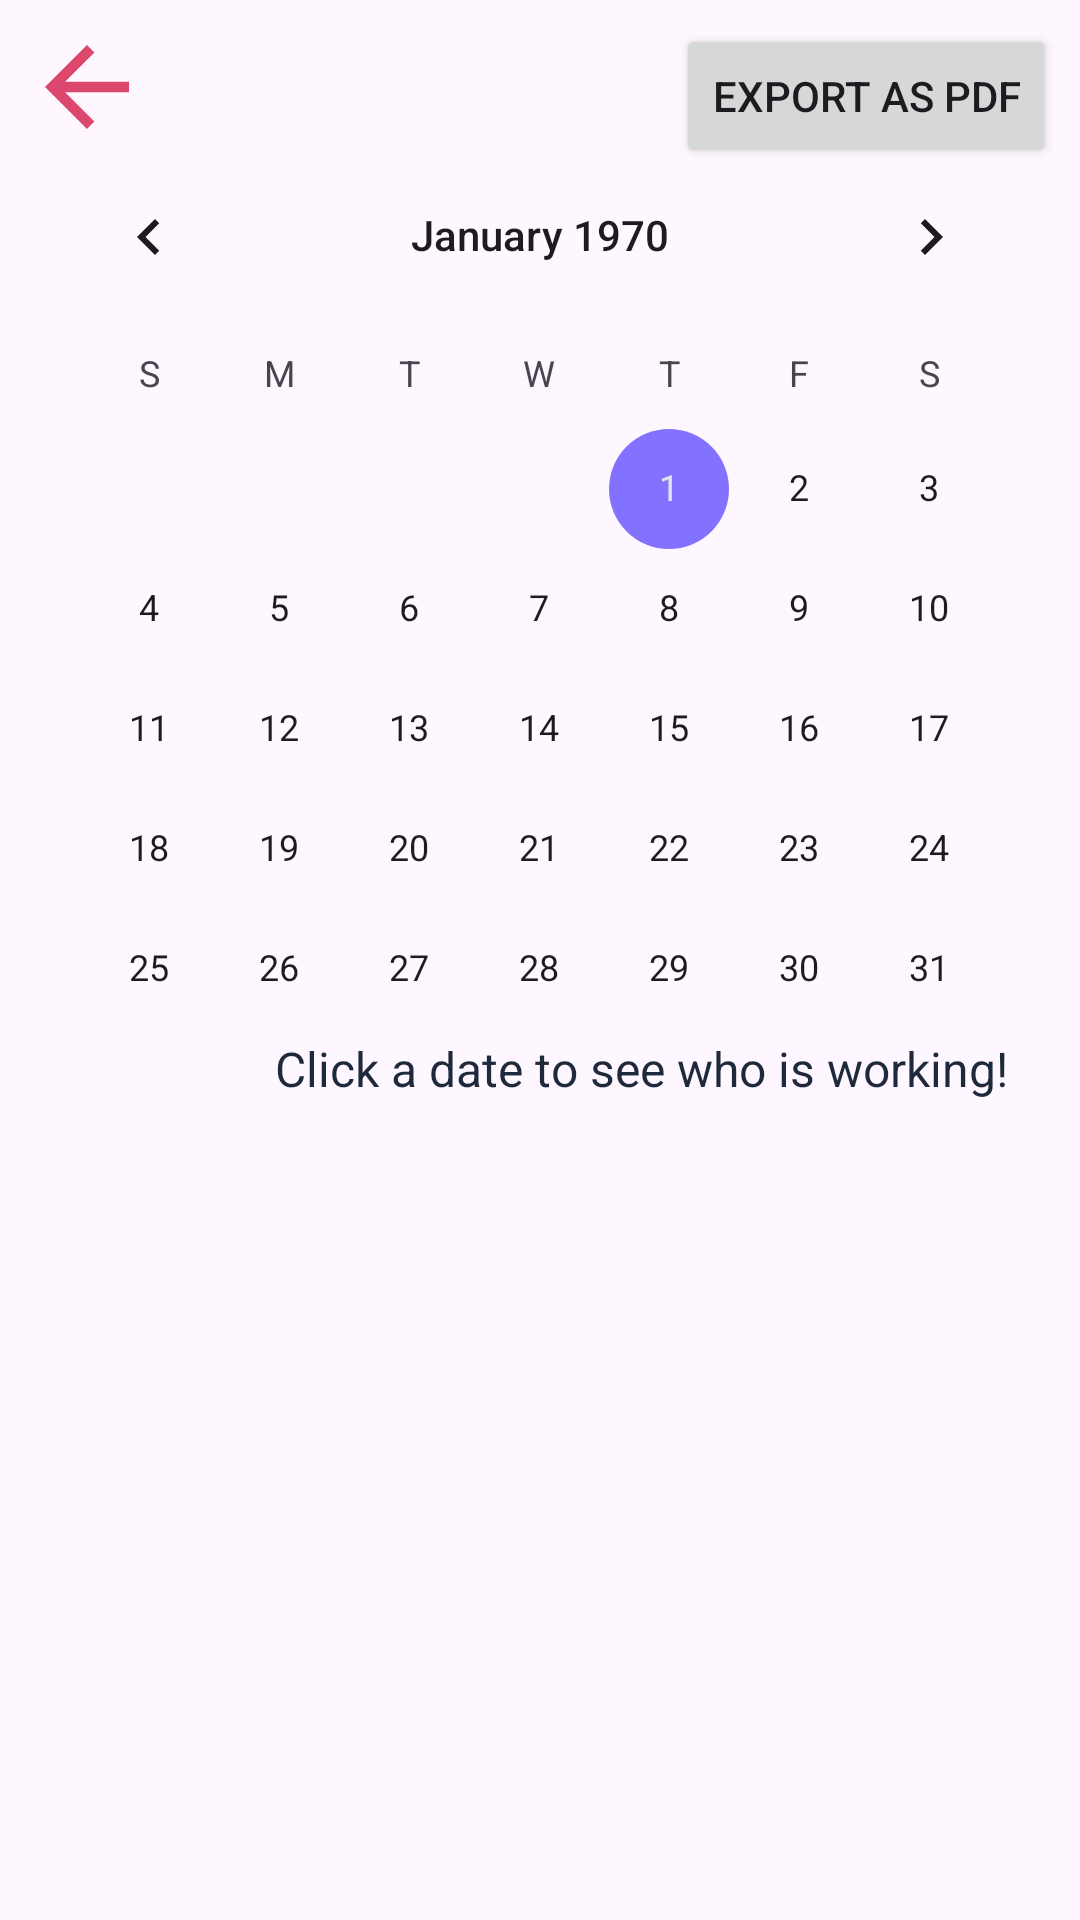

Named icons in this screenshot (1080x1920) and their centers, [x,y]:
backarrow: [87,87]
